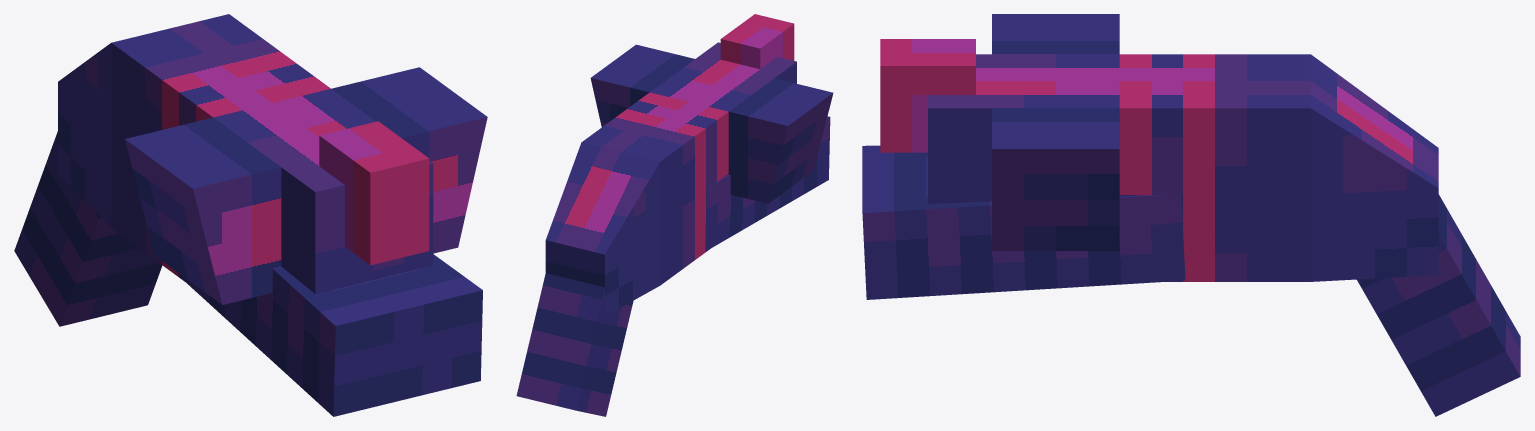
3 views of the same model, side by side, from view 1: azimuth 30°, elevation 25°; view 2: azimuth 150°, elevation 25°; view 3: azimuth 270°, elevation 25° (orthographic). The views are drawn at different scales.
Visible parts, largest first — view 1: cuboid (×5); view 2: cuboid (×5); view 3: cuboid (×5).
Part boxes in pixels (x1,y1,x2,y2): cuboid (×5): (14,14,487,416); cuboid (×5): (516,14,833,416); cuboid (×5): (862,14,1520,416).
Size of the model in its own units: 0.625 by 0.7439 by 1.29.
1 material, 1 textured.
